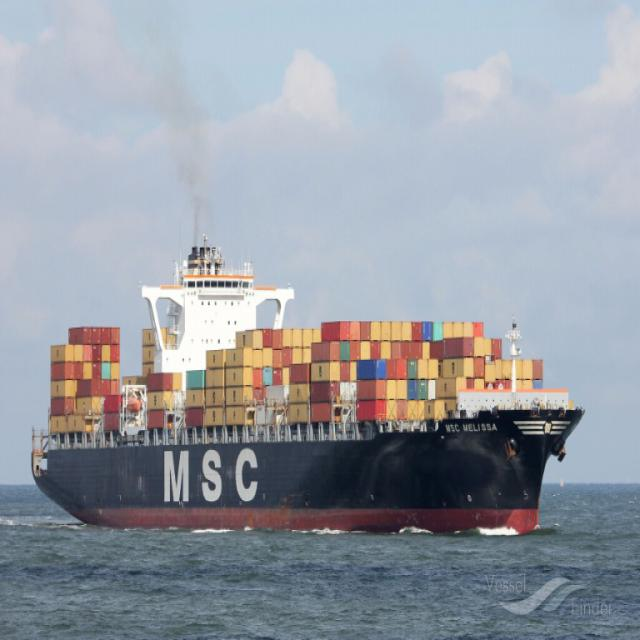Container Ship: (31, 247, 585, 528)
